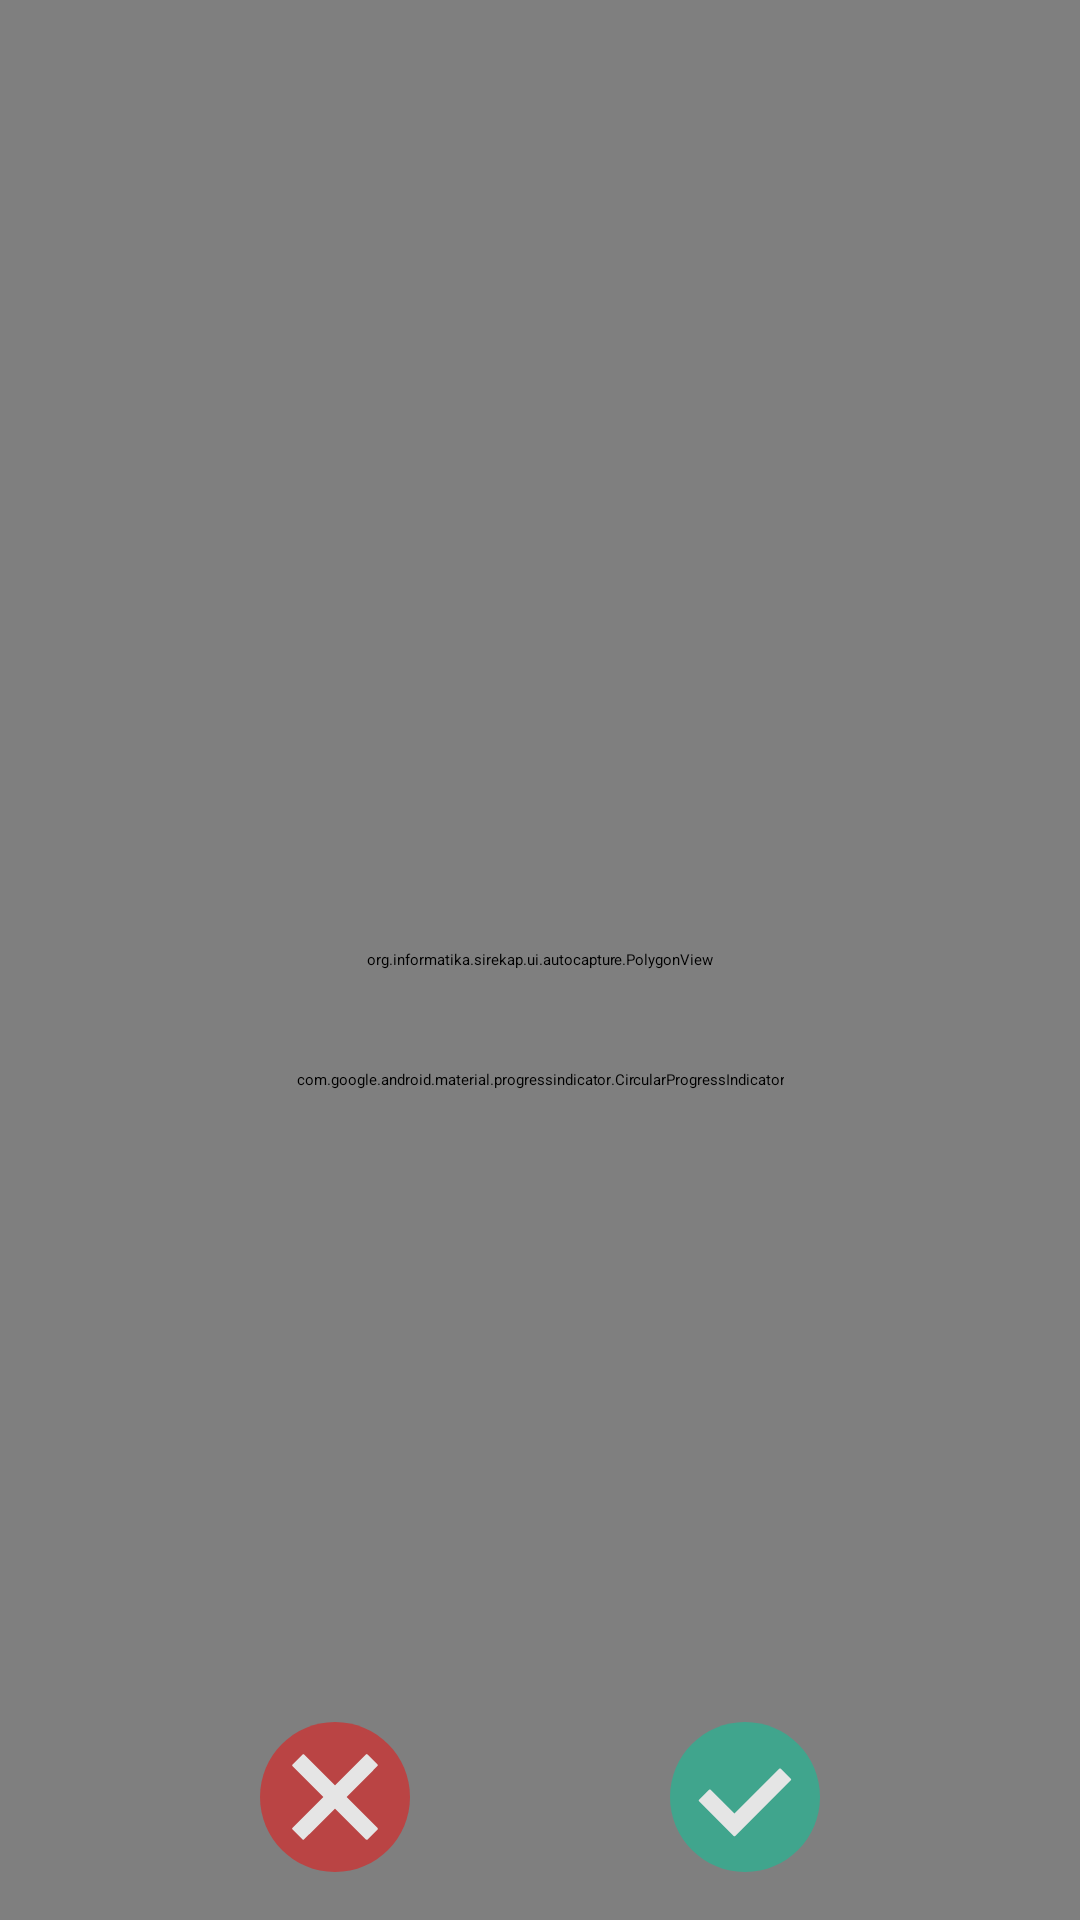

Icons on this 1080px×1920px Android screen, each with its box as (x1, y1, x2, y2):
accept: (670, 1722, 820, 1872)
reject: (260, 1722, 410, 1872)
